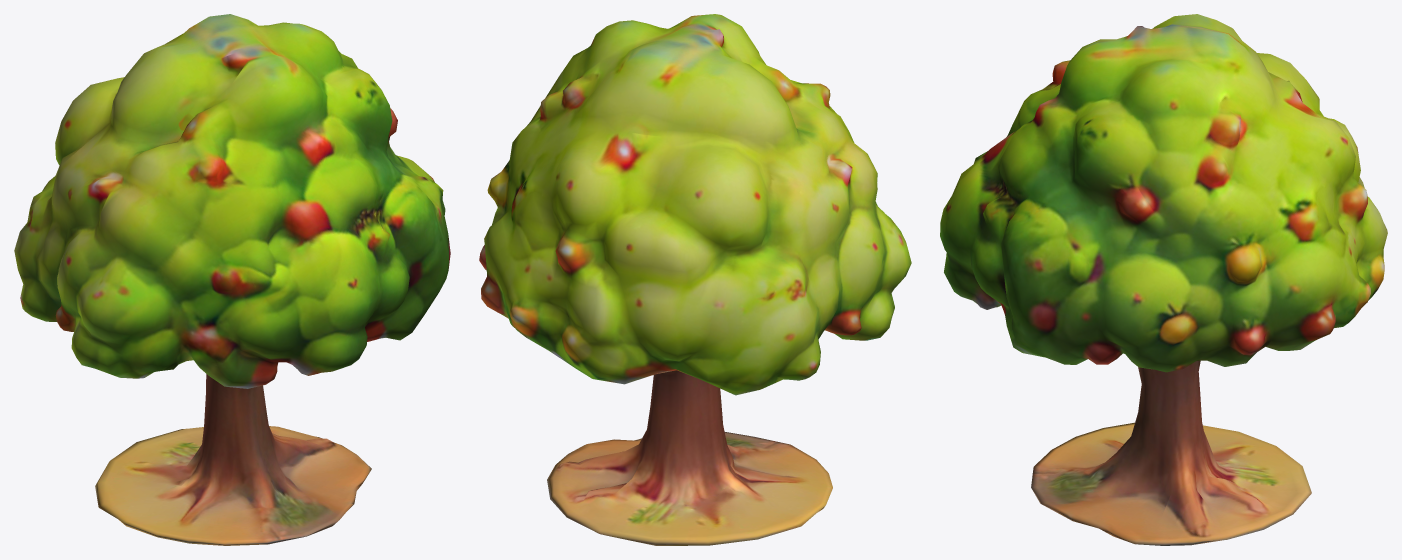
File: tree.fbx
The picture shows the model from 3 angles, left to right: view 1: azimuth 30°, elevation 25°; view 2: azimuth 150°, elevation 25°; view 3: azimuth 270°, elevation 25°; orthographic projection.
Parts seen in each view (by area): view 1: tripo_node_aa578899; view 2: tripo_node_aa578899; view 3: tripo_node_aa578899.
Boxes of the visible parts, left/top/right/bottom form: tripo_node_aa578899: left=14, top=14, right=450, bottom=545; tripo_node_aa578899: left=479, top=14, right=911, bottom=545; tripo_node_aa578899: left=940, top=14, right=1387, bottom=545.
Size of the model in its own units: 59.4 by 69.03 by 61.32.
Materials: 1 (1 with a texture image).
